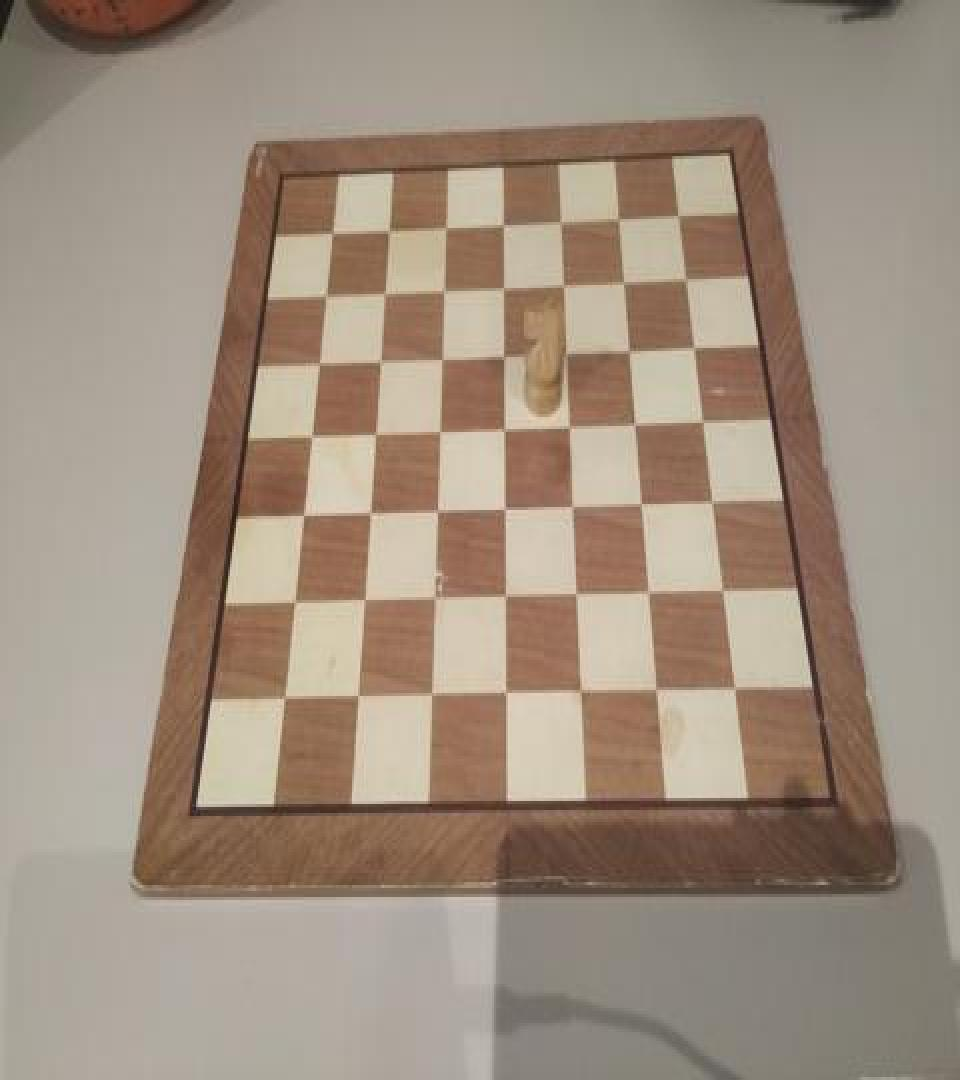xcorner: (292, 499, 312, 530), (347, 681, 367, 711), (422, 680, 442, 710), (497, 678, 517, 708), (573, 676, 593, 706), (650, 675, 670, 705), (353, 585, 373, 615), (424, 582, 444, 612), (569, 579, 589, 609), (642, 578, 662, 608), (715, 574, 735, 604), (359, 496, 379, 526), (427, 495, 447, 525), (496, 492, 516, 522), (565, 490, 585, 520), (635, 488, 655, 518), (705, 486, 725, 516), (300, 418, 320, 448), (364, 417, 384, 447), (430, 414, 450, 444), (495, 411, 515, 441), (561, 410, 581, 440), (628, 406, 648, 436), (695, 405, 715, 435), (307, 345, 327, 375), (369, 342, 389, 372), (432, 340, 452, 370), (495, 338, 515, 368), (558, 334, 578, 364), (622, 333, 642, 363), (686, 330, 706, 360), (314, 278, 334, 308), (374, 274, 394, 304), (434, 272, 454, 302), (494, 270, 514, 300), (555, 267, 575, 297), (616, 264, 636, 294), (678, 261, 698, 291), (321, 214, 341, 244), (378, 212, 398, 242), (436, 208, 456, 238), (494, 207, 514, 237), (552, 204, 572, 234), (611, 201, 631, 231), (671, 198, 691, 228), (273, 683, 293, 712), (727, 674, 747, 703), (283, 587, 303, 616), (496, 581, 516, 610)
